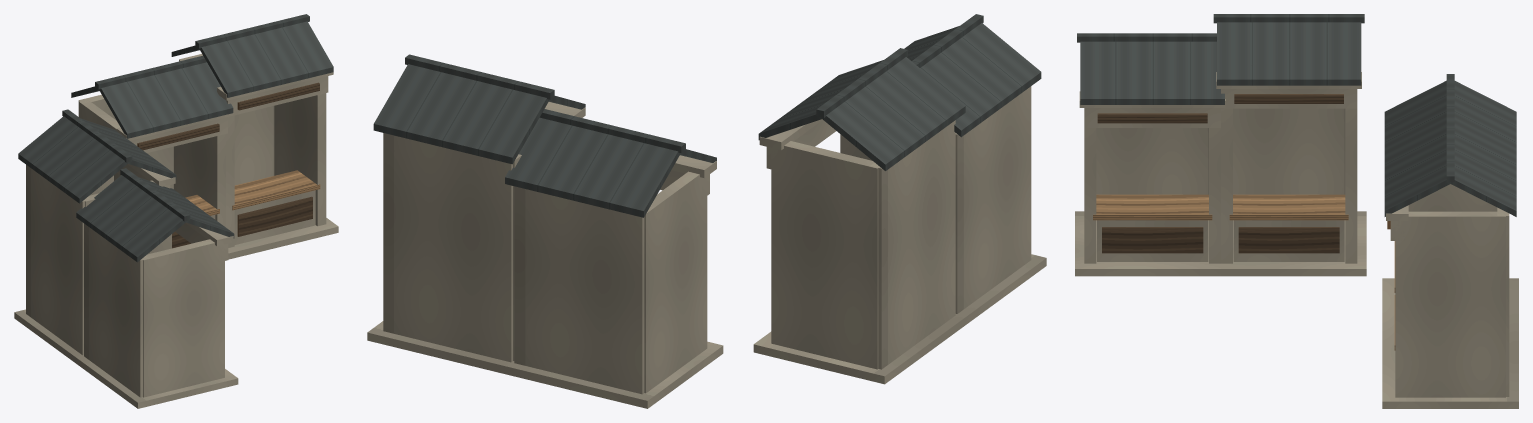
The picture shows the model from 3 angles, left to right: view 1: azimuth 30°, elevation 25°; view 2: azimuth 150°, elevation 25°; view 3: azimuth 270°, elevation 25°; orthographic projection. The views are drawn at different scales.
Parts seen in each view (by area): view 1: praia; view 2: praia; view 3: praia.
Boxes of the visible parts, x1,y1,x2,y2 form: praia: (14,14,338,408); praia: (367,14,1046,408); praia: (1075,14,1518,408).
Bounding box in the file's own units: 4.4 × 2.5 × 4.34.
Materials: 1 (1 with a texture image).
